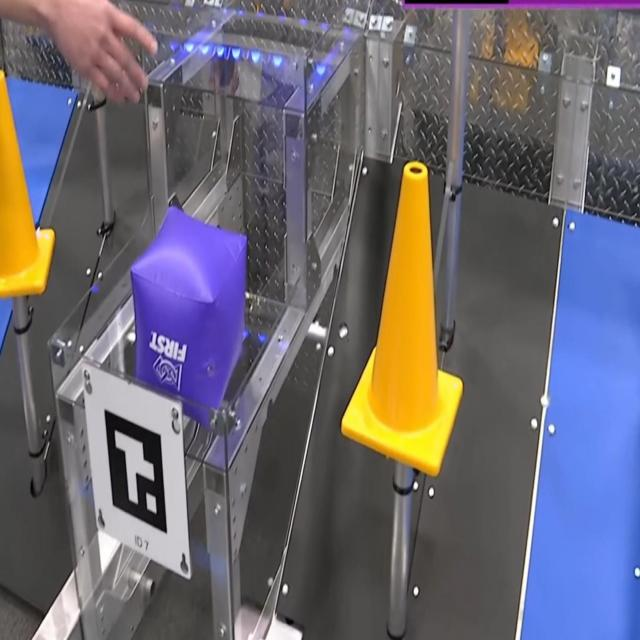frc_cone: (338, 159, 466, 479), (0, 65, 56, 298)
frc_cube: (134, 203, 247, 428)
